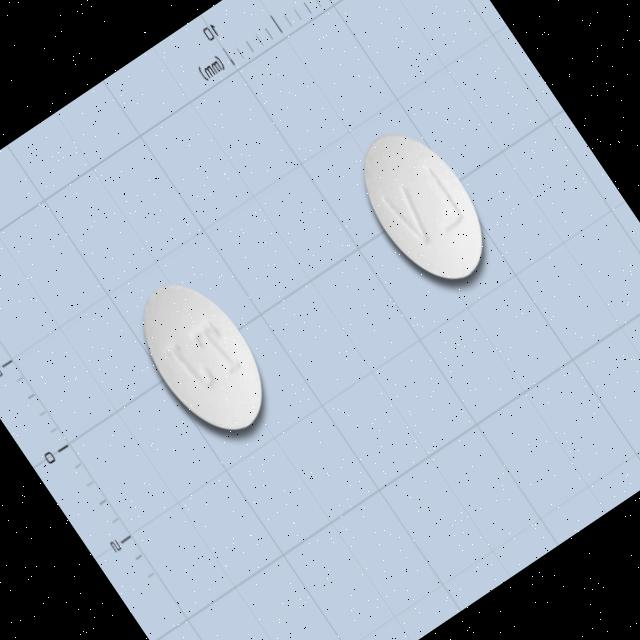TaeJoon Levofloxacin Tab: (339, 112, 507, 300), (118, 263, 286, 451)
